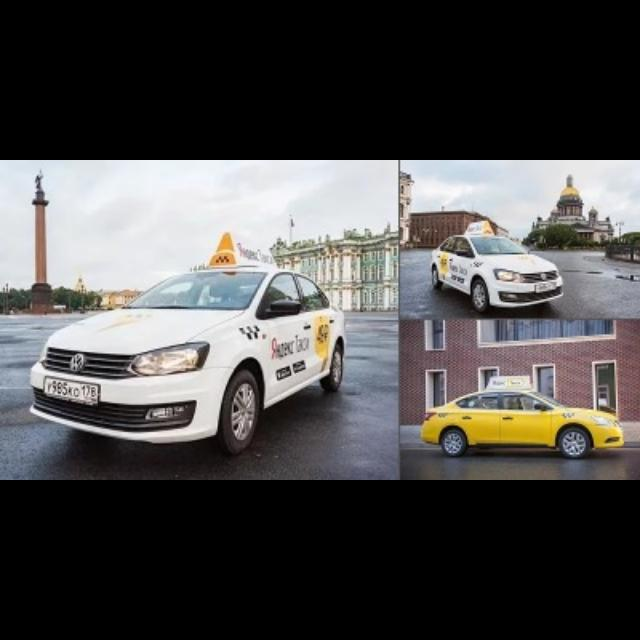taxi: (30, 232, 350, 456), (422, 374, 629, 461), (432, 219, 565, 314)
